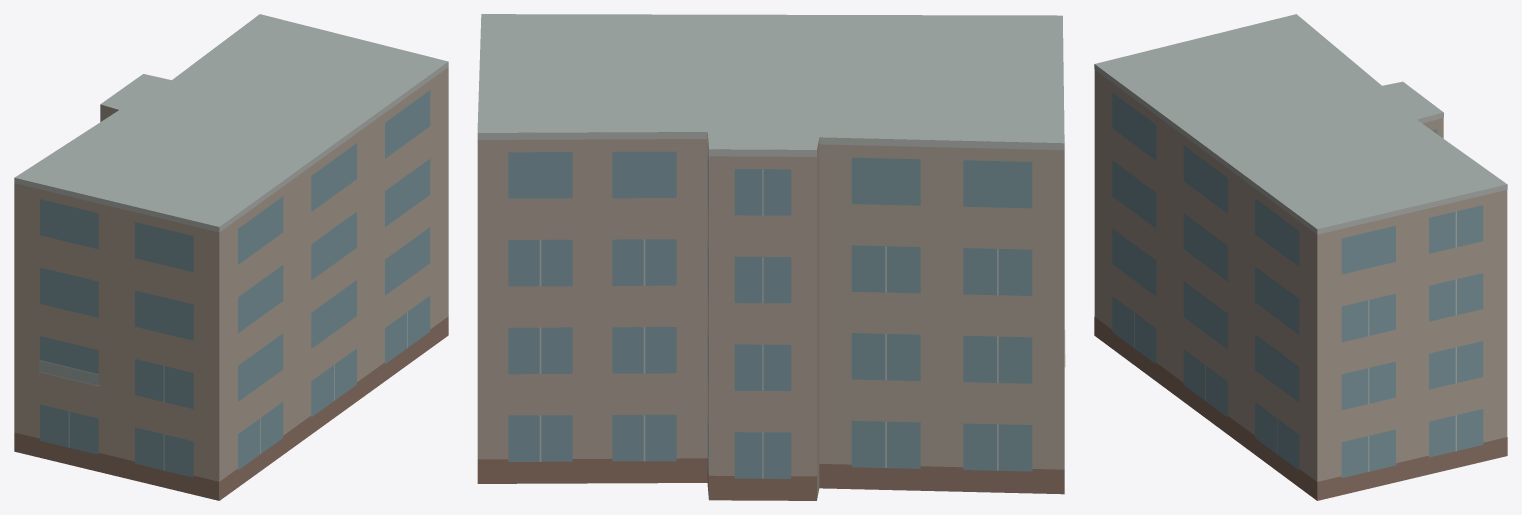
The model's file is survey-upis-32922921.glb.
3 renders of one model, left to right at view 1: azimuth 30°, elevation 25°; view 2: azimuth 150°, elevation 25°; view 3: azimuth 270°, elevation 25°, orthographic. The views are drawn at different scales.
Parts seen in each view (by area): view 1: survey-upis-32922921.tmp; view 2: survey-upis-32922921.tmp; view 3: survey-upis-32922921.tmp.
Part boxes in pixels (x1,y1,x2,y2): survey-upis-32922921.tmp: (14, 14, 448, 500); survey-upis-32922921.tmp: (477, 14, 1065, 500); survey-upis-32922921.tmp: (1094, 14, 1507, 500).
Bounding box in the file's own units: 20.74 × 12.2 × 16.82.
